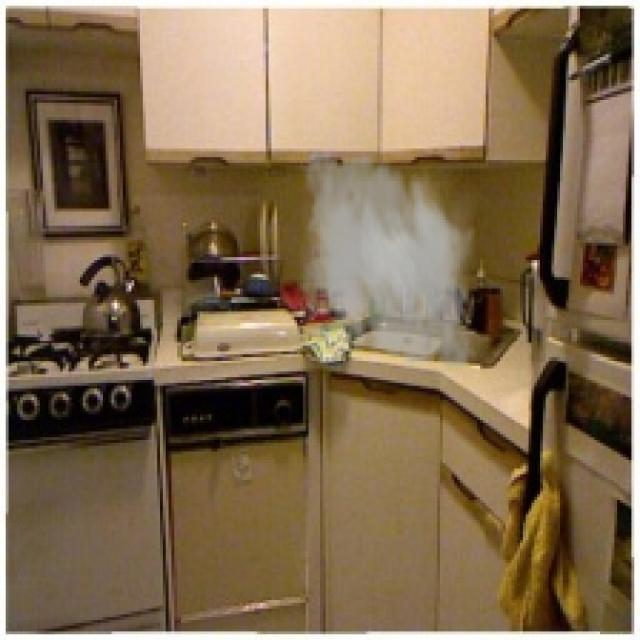Smoke: (286, 140, 486, 380)
